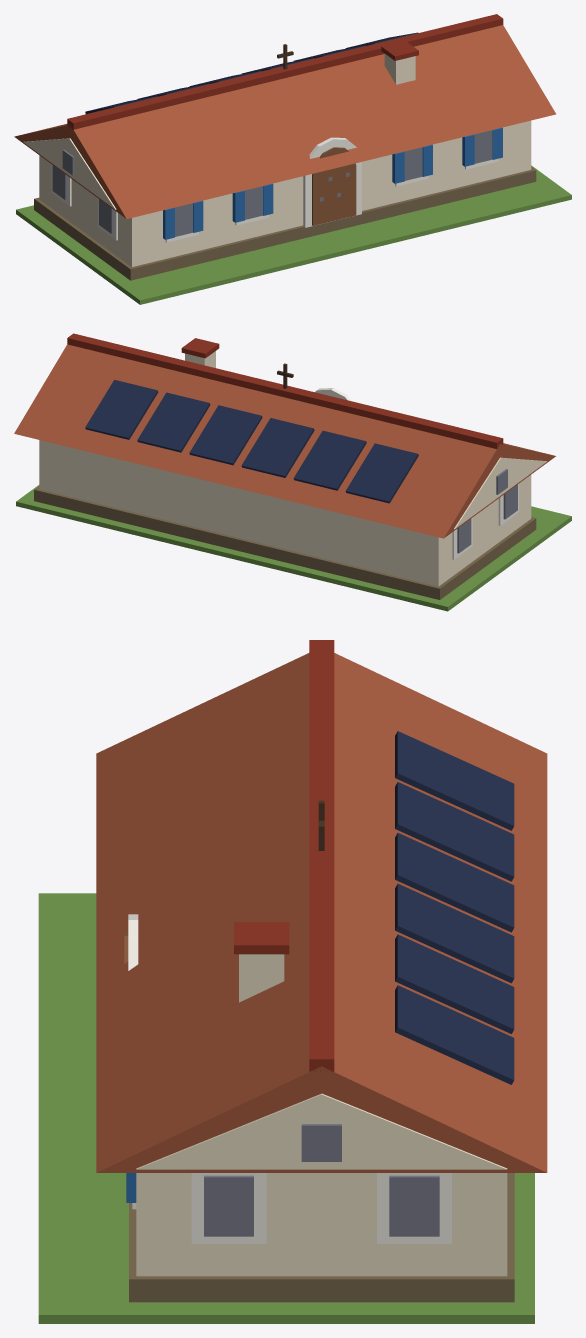
File: house-2x1-1f-andean-a-solar.glb
3 renders of one model, top to bottom at view 1: azimuth 30°, elevation 25°; view 2: azimuth 150°, elevation 25°; view 3: azimuth 270°, elevation 25°, orthographic. The views are drawn at different scales.
Parts seen in each view (by area): view 1: house-2x1-1f-andean-a-solar; view 2: house-2x1-1f-andean-a-solar; view 3: house-2x1-1f-andean-a-solar.
Part boxes in pixels (x1,y1,x2,y2): house-2x1-1f-andean-a-solar: (14,14,571,304); house-2x1-1f-andean-a-solar: (14,333,571,611); house-2x1-1f-andean-a-solar: (38,640,547,1323).
Bounding box in the file's own units: 2.01 × 0.685 × 1.01.
Materials: 1 (1 with a texture image).
